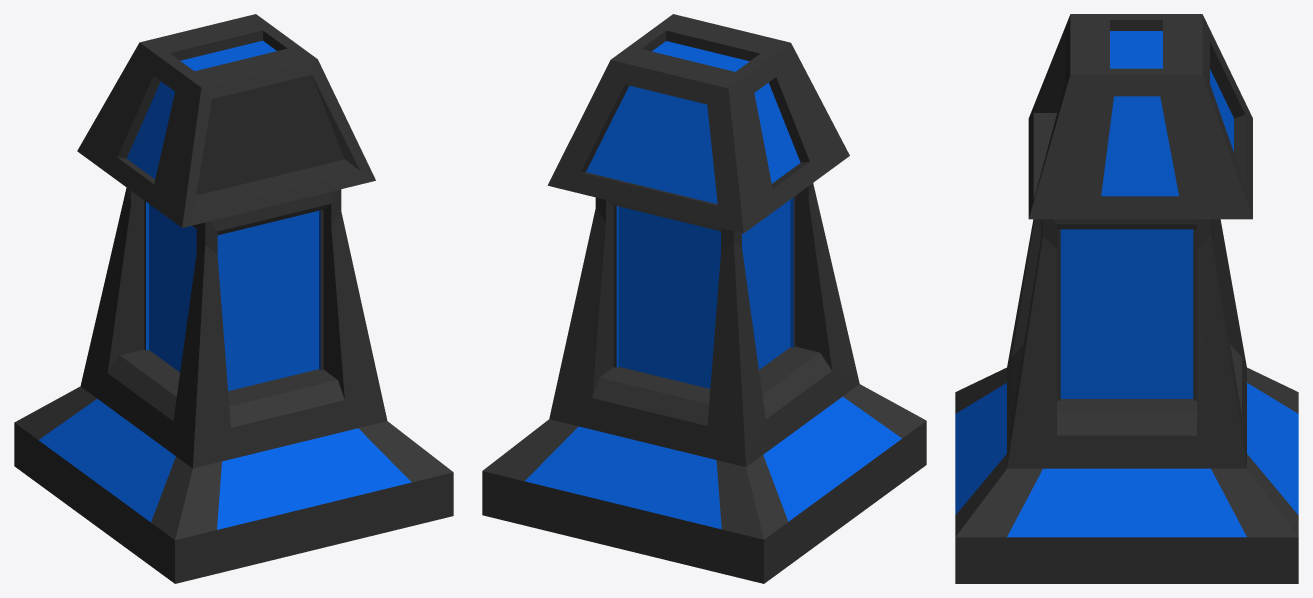
The model's file is turret.fbx.
3 renders of one model, left to right at view 1: azimuth 30°, elevation 25°; view 2: azimuth 150°, elevation 25°; view 3: azimuth 270°, elevation 25°, orthographic. The views are drawn at different scales.
Parts seen in each view (by area): view 1: Turret, Head; view 2: Turret, Head; view 3: Turret, Head.
Part boxes in pixels (x1,y1,x2,y2): Turret: (14, 187, 453, 583); Head: (77, 14, 375, 227); Turret: (482, 183, 926, 583); Head: (547, 14, 849, 233); Turret: (955, 219, 1298, 583); Head: (1028, 14, 1252, 219).
Size of the model in its own units: 200 by 301 by 200.
